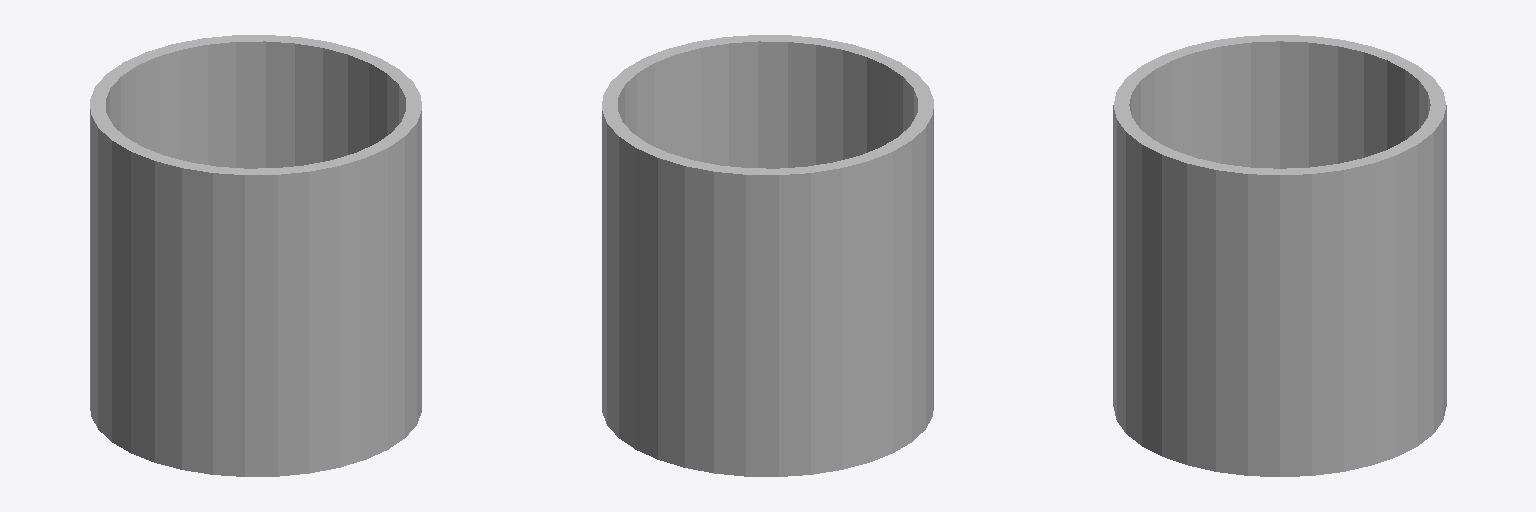
The model's file is Hollow_cylinder.obj.
The picture shows the model from 3 angles: view 1: azimuth 30°, elevation 25°; view 2: azimuth 150°, elevation 25°; view 3: azimuth 270°, elevation 25°; orthographic projection.
Parts seen in each view (by area): view 1: 실린더; view 2: 실린더; view 3: 실린더.
Part boxes in pixels (x1,y1,x2,y2): 실린더: (90, 35, 421, 476); 실린더: (602, 35, 933, 476); 실린더: (1113, 35, 1446, 476).
Size of the model in its own units: 18 by 18 by 18.